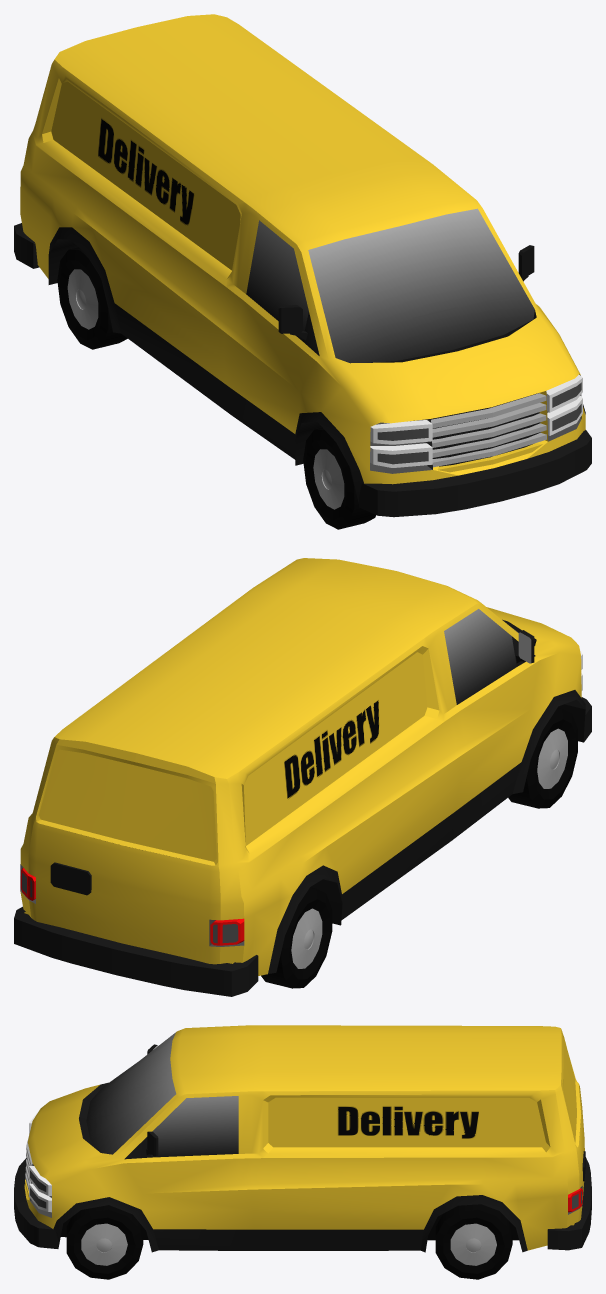
File: delivery vehicle 1.fbx
3 renders of one model, top to bottom at view 1: azimuth 30°, elevation 25°; view 2: azimuth 150°, elevation 25°; view 3: azimuth 270°, elevation 25°, orthographic. The views are drawn at different scales.
Parts seen in each view (by area): view 1: Plane, Cylinder.002, Cylinder.003; view 2: Plane, Cylinder.003, Cylinder.002; view 3: Plane, Cylinder.001, Cylinder.
Boxes of the visible parts, <box> form: Plane: <box>14,14,591,517</box>; Cylinder.002: <box>303,427,375,529</box>; Cylinder.003: <box>57,247,127,349</box>; Plane: <box>14,558,591,996</box>; Cylinder.003: <box>261,887,332,988</box>; Cylinder.002: <box>508,707,577,808</box>; Plane: <box>14,1025,591,1252</box>; Cylinder.001: <box>435,1204,512,1279</box>; Cylinder: <box>66,1205,143,1279</box>.
Bounding box in the file's own units: 84.57 × 78.49 × 221.
Materials: 1 (1 with a texture image).
